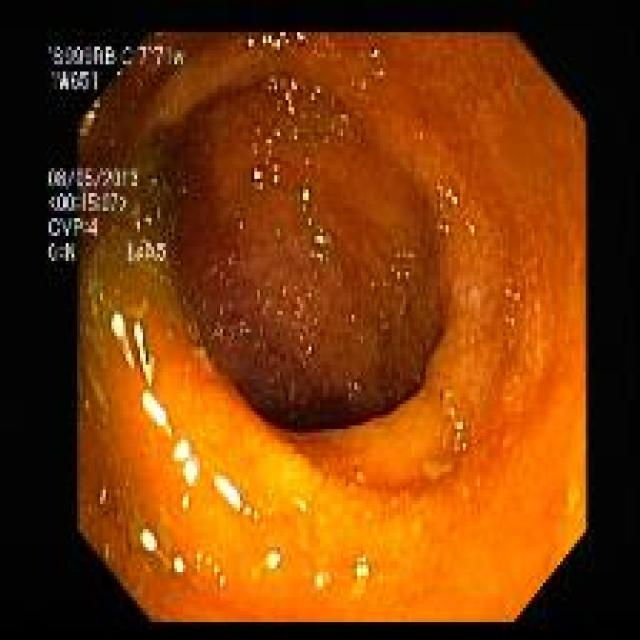ulcerative-colitis: (72, 33, 586, 621)
